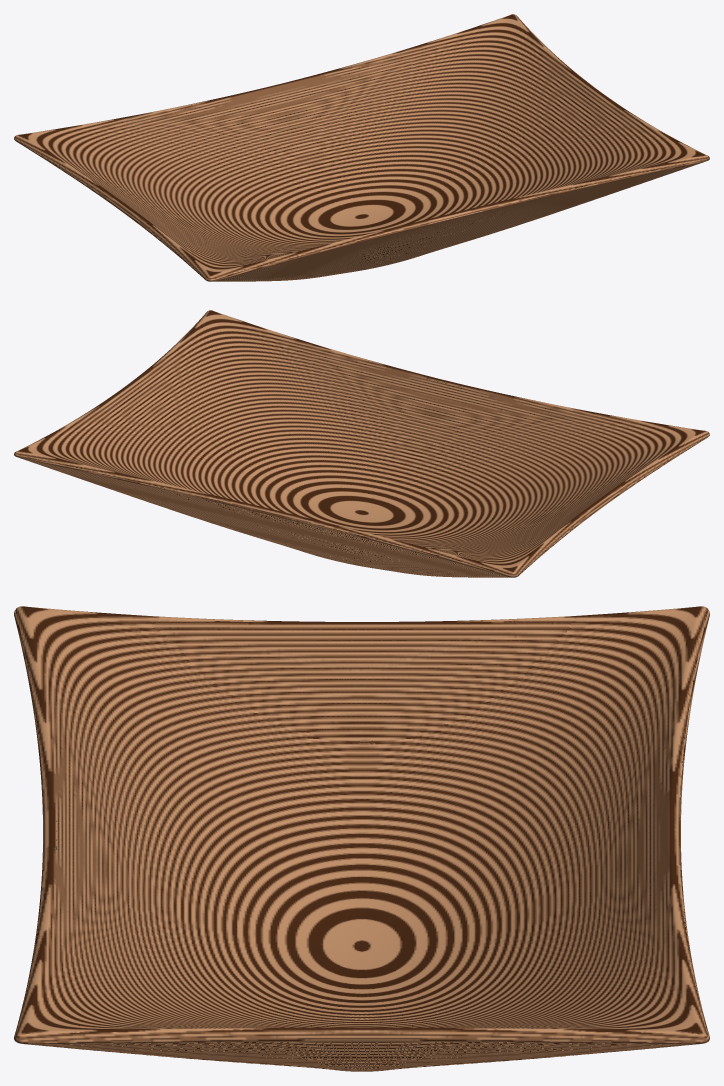
Rendered from Заготовка2.glb.
The picture shows the model from 3 angles, top to bottom: view 1: azimuth 30°, elevation 25°; view 2: azimuth 150°, elevation 25°; view 3: azimuth 270°, elevation 25°; orthographic projection. The views are drawn at different scales.
Parts seen in each view (by area): view 1: Solid_101; view 2: Solid_101; view 3: Solid_101.
Part boxes in pixels (x1,y1,x2,y2): Solid_101: (14, 14, 709, 281); Solid_101: (14, 310, 709, 577); Solid_101: (14, 606, 709, 1071).
Bounding box in the file's own units: 559 × 105 × 379.
Materials: 1 (1 with a texture image).
